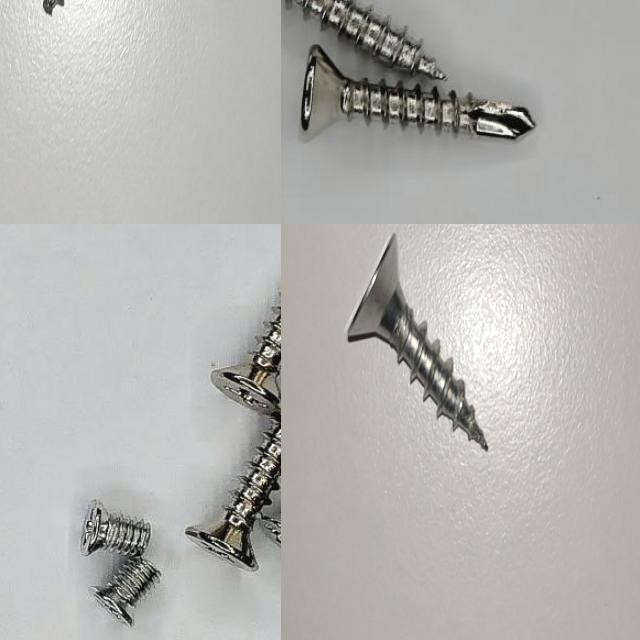Screw: (345, 232, 488, 450), (301, 45, 536, 141), (187, 412, 281, 571), (286, 0, 445, 80), (212, 305, 281, 415), (90, 558, 162, 626), (82, 501, 151, 557)
